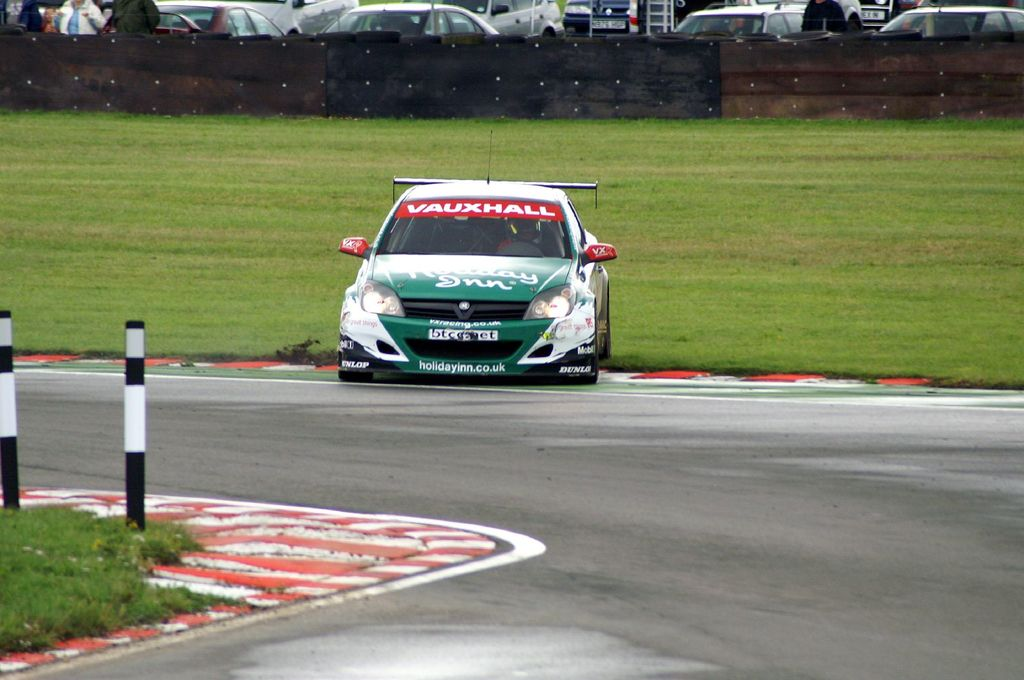mobil: (341, 169, 618, 387)
